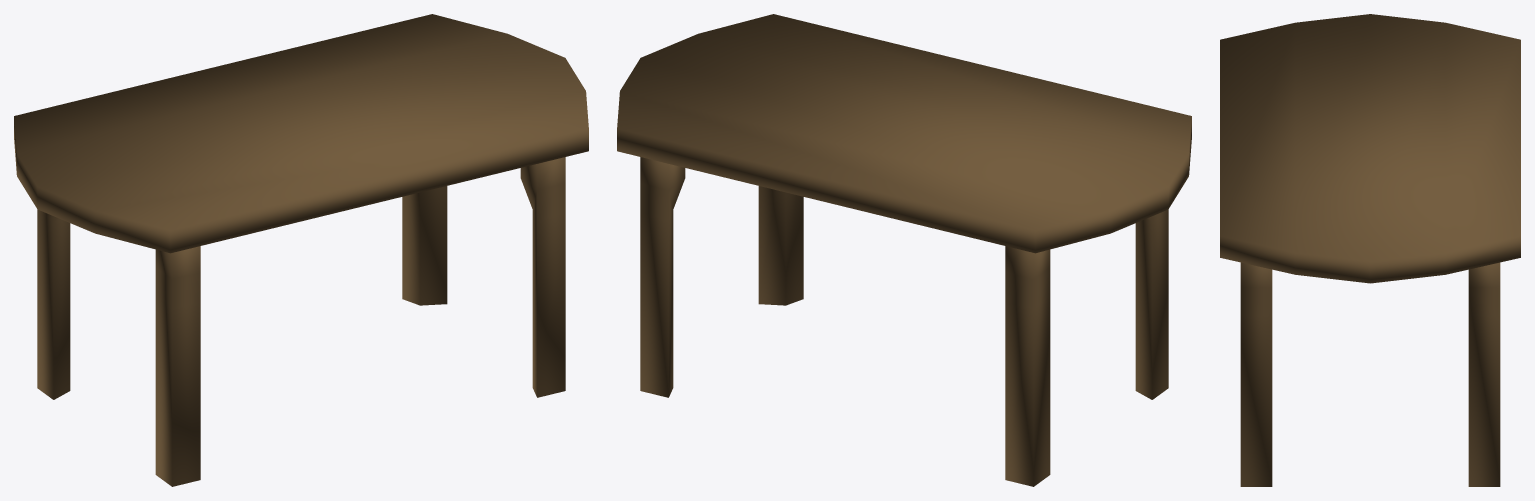
File: Table.fbx
3 renders of one model, left to right at view 1: azimuth 30°, elevation 25°; view 2: azimuth 150°, elevation 25°; view 3: azimuth 270°, elevation 25°, orthographic. The views are drawn at different scales.
Parts seen in each view (by area): view 1: Table; view 2: Table; view 3: Table.
Boxes of the visible parts, x1,y1,x2,y2 form: Table: [14, 14, 588, 486]; Table: [617, 14, 1191, 486]; Table: [1220, 14, 1520, 486].
Size of the model in its own units: 1.95 by 0.9423 by 1.
